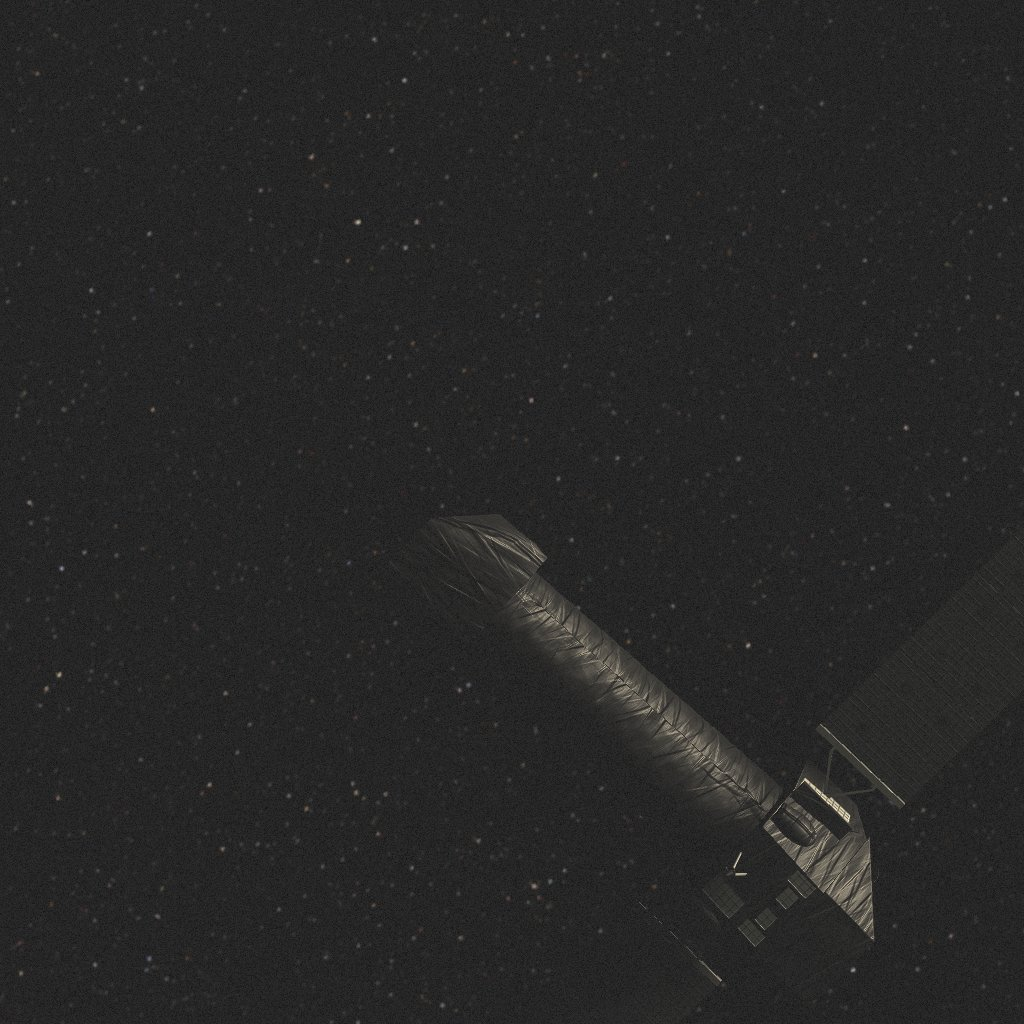xmm_newton: (384, 514, 1024, 1024)
